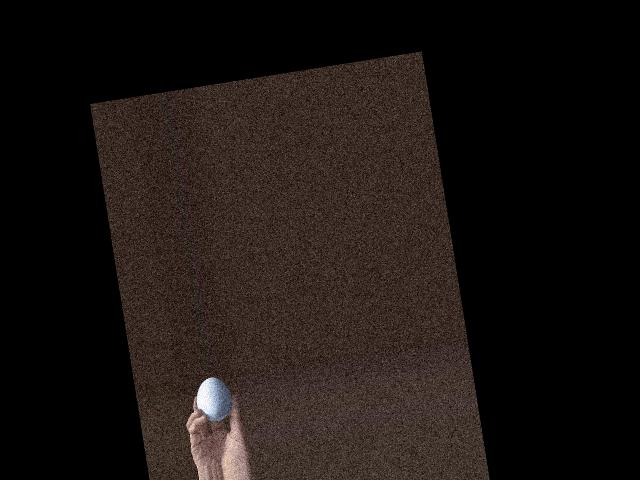egg: (192, 374, 233, 423)
